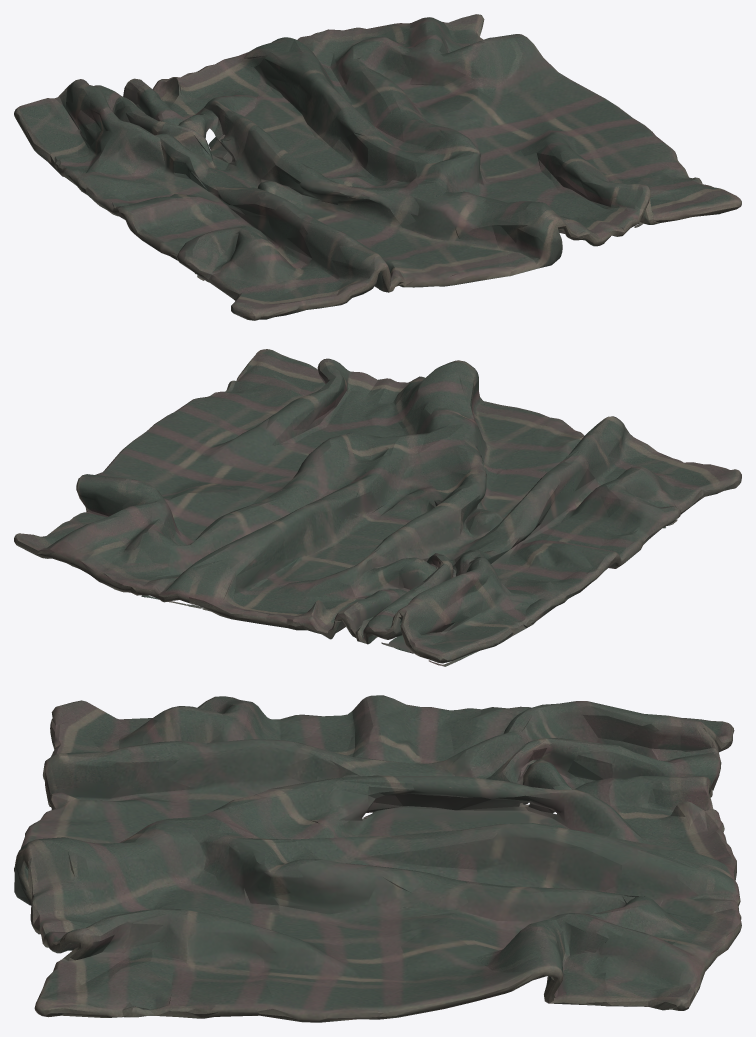
The model's file is coperta.glb.
3 renders of one model, top to bottom at view 1: azimuth 30°, elevation 25°; view 2: azimuth 150°, elevation 25°; view 3: azimuth 270°, elevation 25°, orthographic. The views are drawn at different scales.
Parts seen in each view (by area): view 1: Mesh_0; view 2: Mesh_0; view 3: Mesh_0.
Part boxes in pixels (x1,y1,x2,y2): Mesh_0: (14,14,741,320); Mesh_0: (14,349,741,666); Mesh_0: (14,695,741,1022).
Bounding box in the file's own units: 1.9 × 0.186 × 1.89.
1 material, 1 textured.
